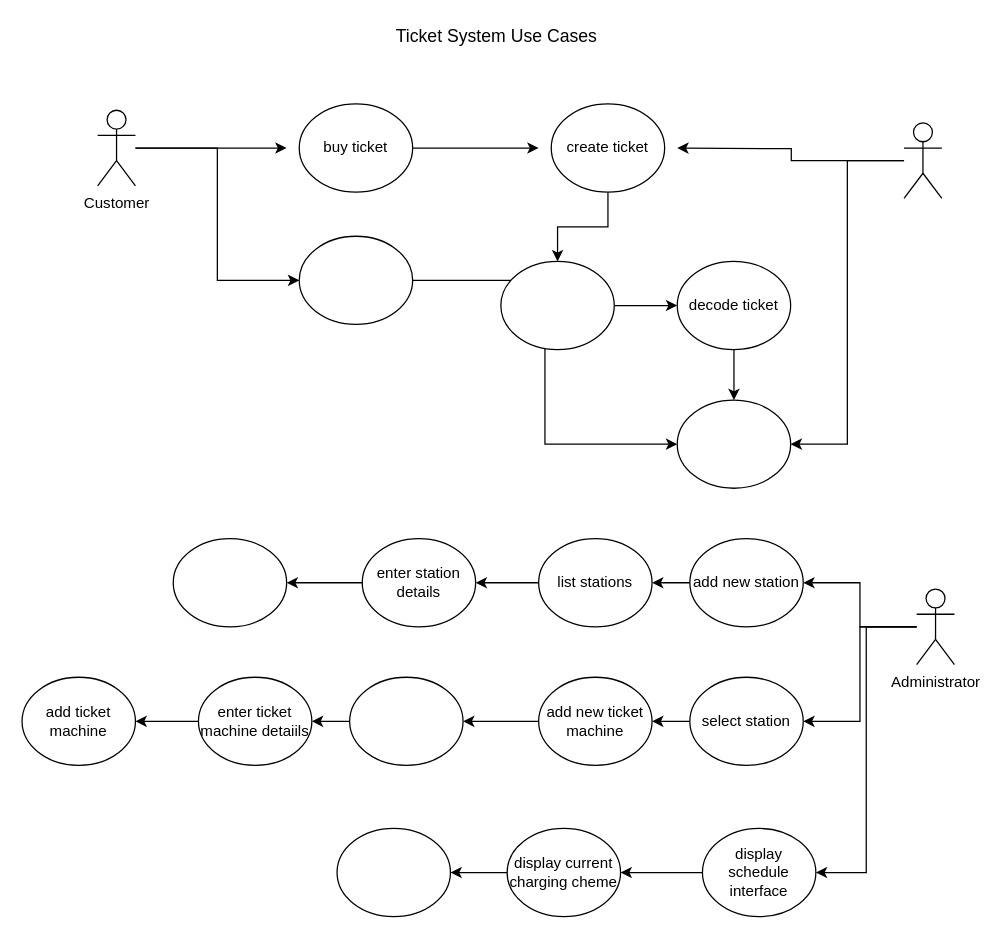
This 1002x939 diagram has some shape labels left out. The shapes that lost their labels are listed below. From the top down, each one's box as (x1, y1, x2, y2) in pixels, then its label:
(903, 122, 942, 198): System
(298, 235, 413, 324): validate ticket
(500, 260, 614, 350): encode ticket
(676, 399, 791, 488): open gate
(172, 537, 287, 627): add station
(348, 676, 463, 765): list ticket machines
(336, 827, 450, 917): add new charging scheme
